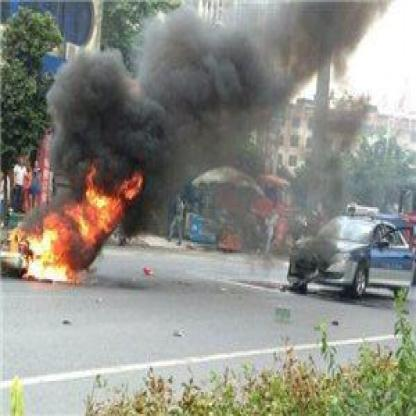other: (13, 160, 137, 283), (237, 168, 291, 234), (14, 151, 46, 194), (393, 204, 412, 238)
smoke: (133, 3, 274, 134), (61, 48, 184, 157), (285, 0, 385, 59), (325, 88, 367, 149)
